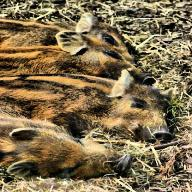boar: (5, 66, 175, 141), (0, 0, 135, 60), (14, 118, 124, 190), (2, 35, 159, 85)
